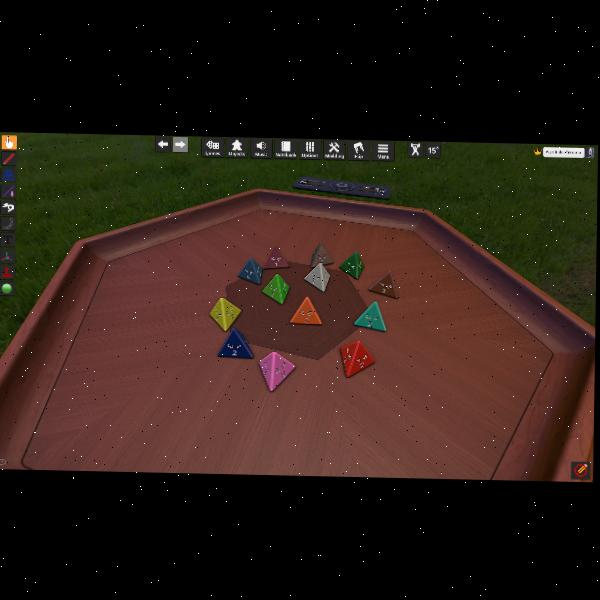d4: (258, 350, 295, 391), (340, 340, 374, 378), (219, 326, 255, 358), (353, 299, 386, 331), (210, 297, 241, 331), (368, 269, 398, 298), (262, 273, 290, 304), (290, 297, 321, 325), (303, 263, 329, 293), (338, 251, 364, 279), (237, 258, 263, 285), (262, 245, 288, 269), (309, 242, 332, 268)
